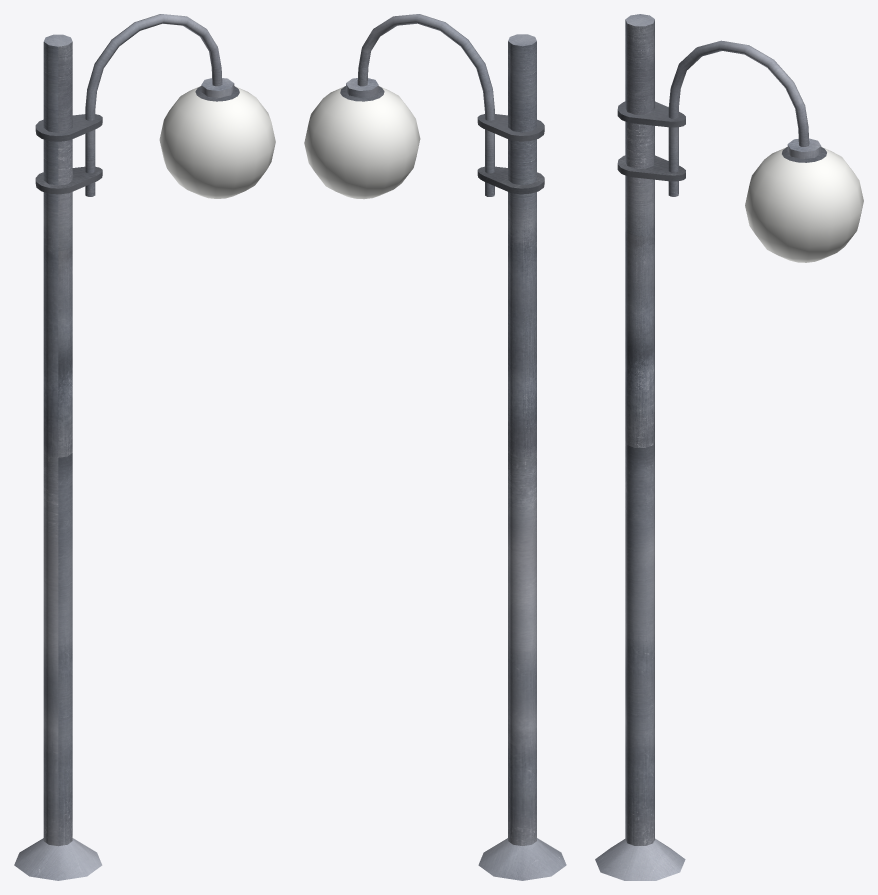
The model's file is lamp.fbx.
3 views of the same model, side by side, from view 1: azimuth 30°, elevation 25°; view 2: azimuth 150°, elevation 25°; view 3: azimuth 330°, elevation 25° (orthographic). The views are drawn at different scales.
Parts seen in each view (by area): view 1: Cylinder01; view 2: Cylinder01; view 3: Cylinder01.
Boxes of the visible parts, x1,y1,x2,y2 form: Cylinder01: (14,14,275,880); Cylinder01: (304,14,566,880); Cylinder01: (595,14,863,880).
Size of the model in its own units: 90.08 by 288 by 36.39.
Materials: 1 (1 with a texture image).
